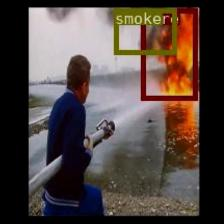fire: (140, 8, 197, 99)
smoke: (113, 8, 176, 54)
